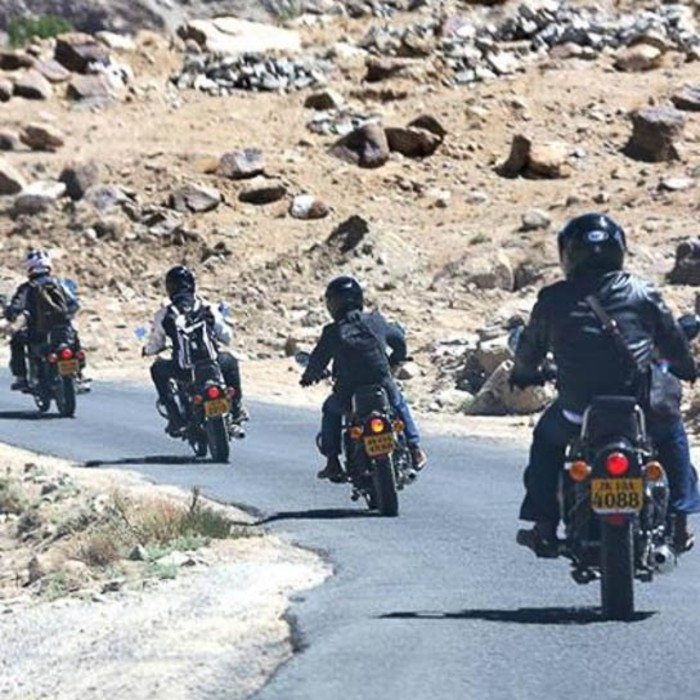h: (557, 212, 628, 282), (324, 277, 364, 319), (165, 265, 195, 301)
n: (588, 475, 647, 517), (361, 430, 396, 458)
